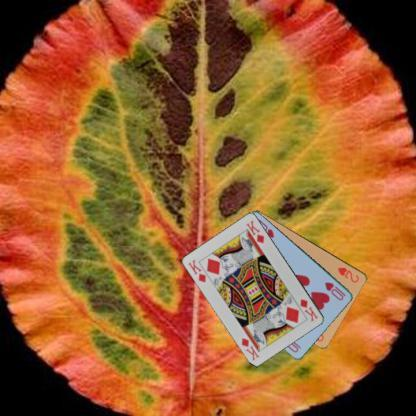10h: (323, 280, 348, 302)
2h: (335, 264, 361, 284)
Kd: (298, 296, 320, 323), (186, 257, 208, 284)
